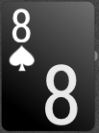Spade: (9, 45, 35, 72)
